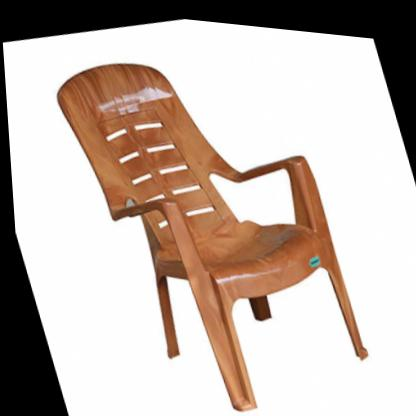Chair: (44, 18, 378, 416)
